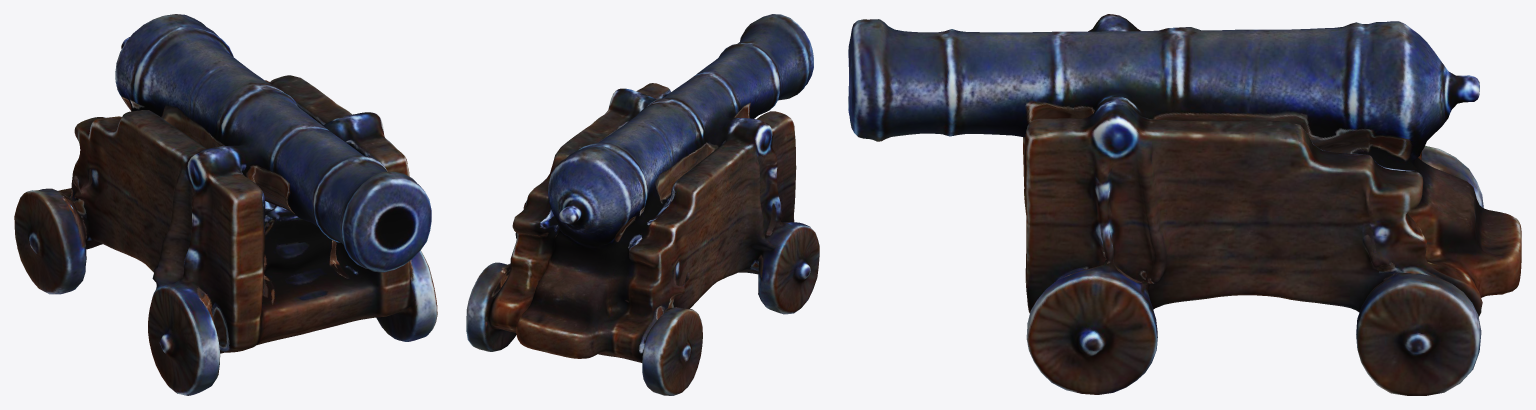
File: mini-cannon.glb
3 renders of one model, left to right at view 1: azimuth 30°, elevation 25°; view 2: azimuth 150°, elevation 25°; view 3: azimuth 270°, elevation 25°, orthographic. The views are drawn at different scales.
Visible parts, largest first — view 1: mesh; view 2: mesh; view 3: mesh.
Part boxes in pixels (x1,y1,x2,y2): mesh: (14, 14, 437, 395); mesh: (466, 14, 819, 395); mesh: (848, 14, 1521, 395).
Bounding box in the file's own units: 0.5326 × 0.5015 × 0.9996.
Materials: 1 (1 with a texture image).
